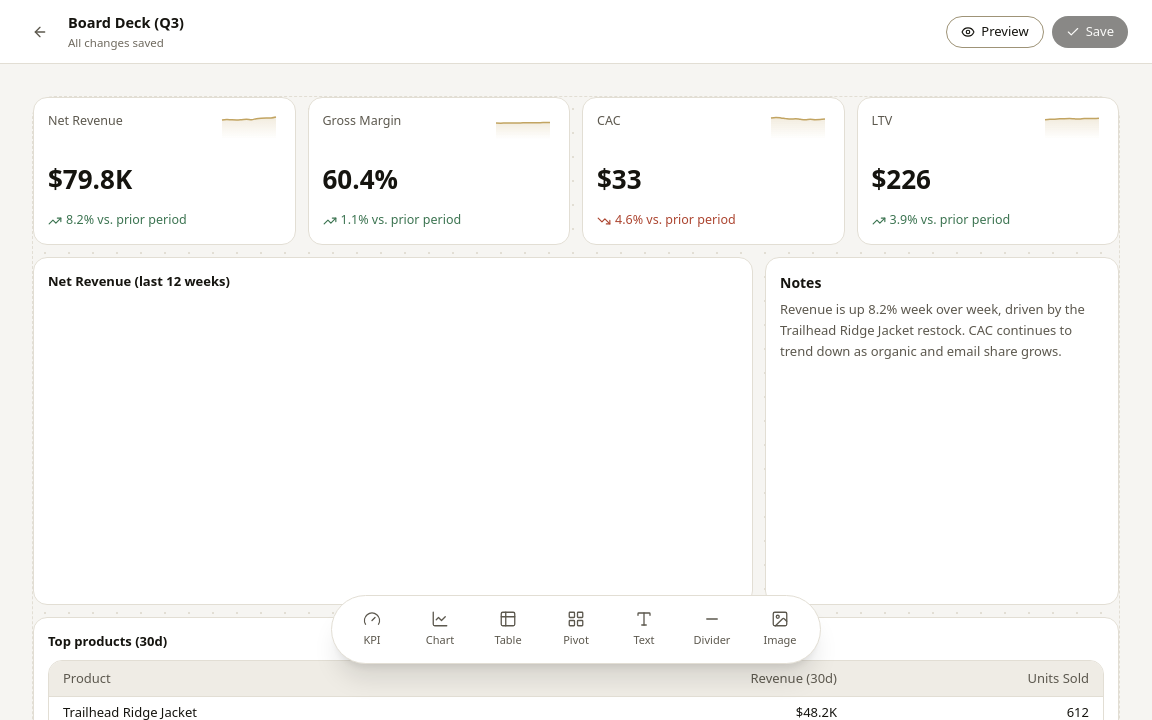
ReportBuilderPage › adds a pivot block from the palette with a real default config, rendered through the query engine
Expected: the text "Board Deck (Q3)" is shown, [68,12,184,34]
What coordinates should you click on to do the following:
click the button "Pivot"
I would click on:
 (576, 630)
Its box is [544,602,608,657].
(page scrolled)
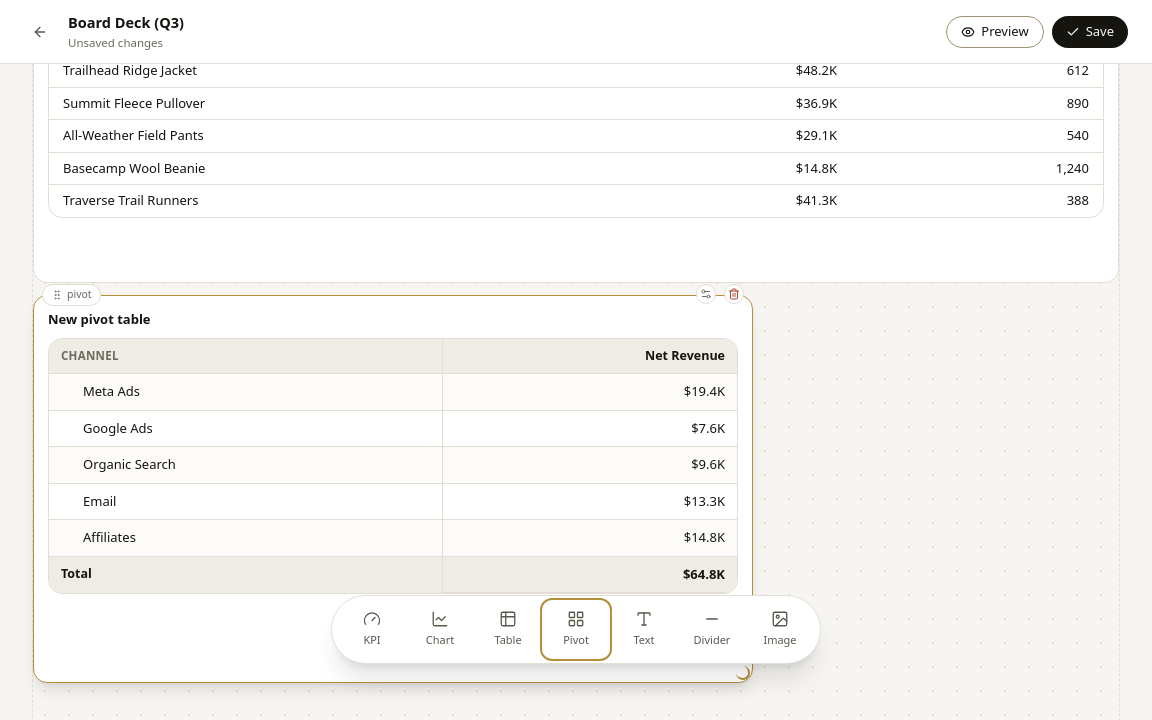
Expected: the element named "pivot block" is shown, [33,295,753,683]
Expected: the text "New pivot table" is shown, [48,310,150,328]
Expected: the text "Meta Ads" is shown, [83,382,140,402]
